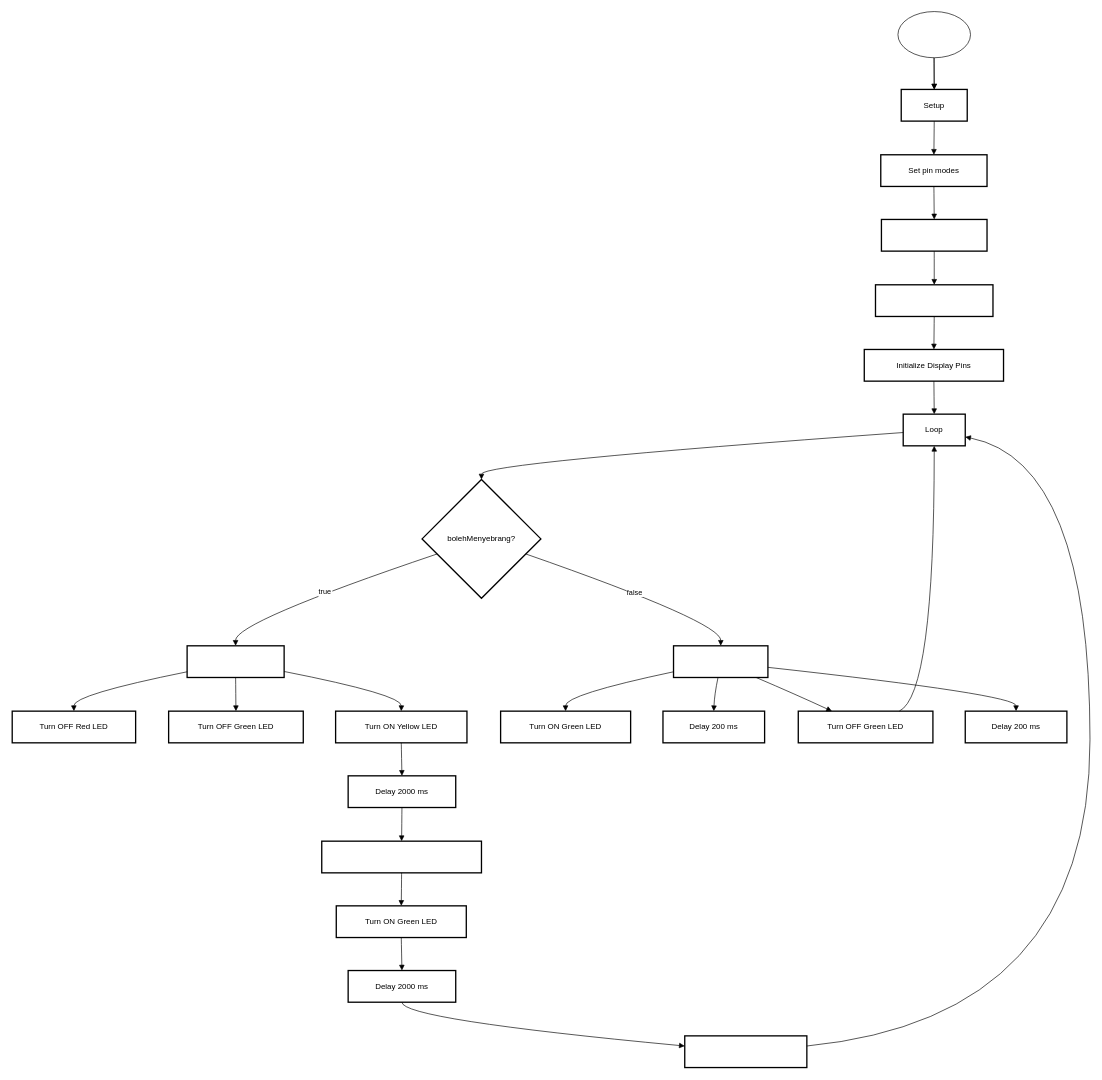
Image size: 1102x1080. Some labels were removed from this diagram. Each missing label, with the centre of its shape:
Attach Interrupt: (933,300)
Countdown from 20 to 00: (401,856)
Hijau Kedip: (720,661)
Initialize LEDs: (933,234)
Menyebrang: (235,661)
Start: (934,34)
Turn OFF all LEDs: (745,1051)
